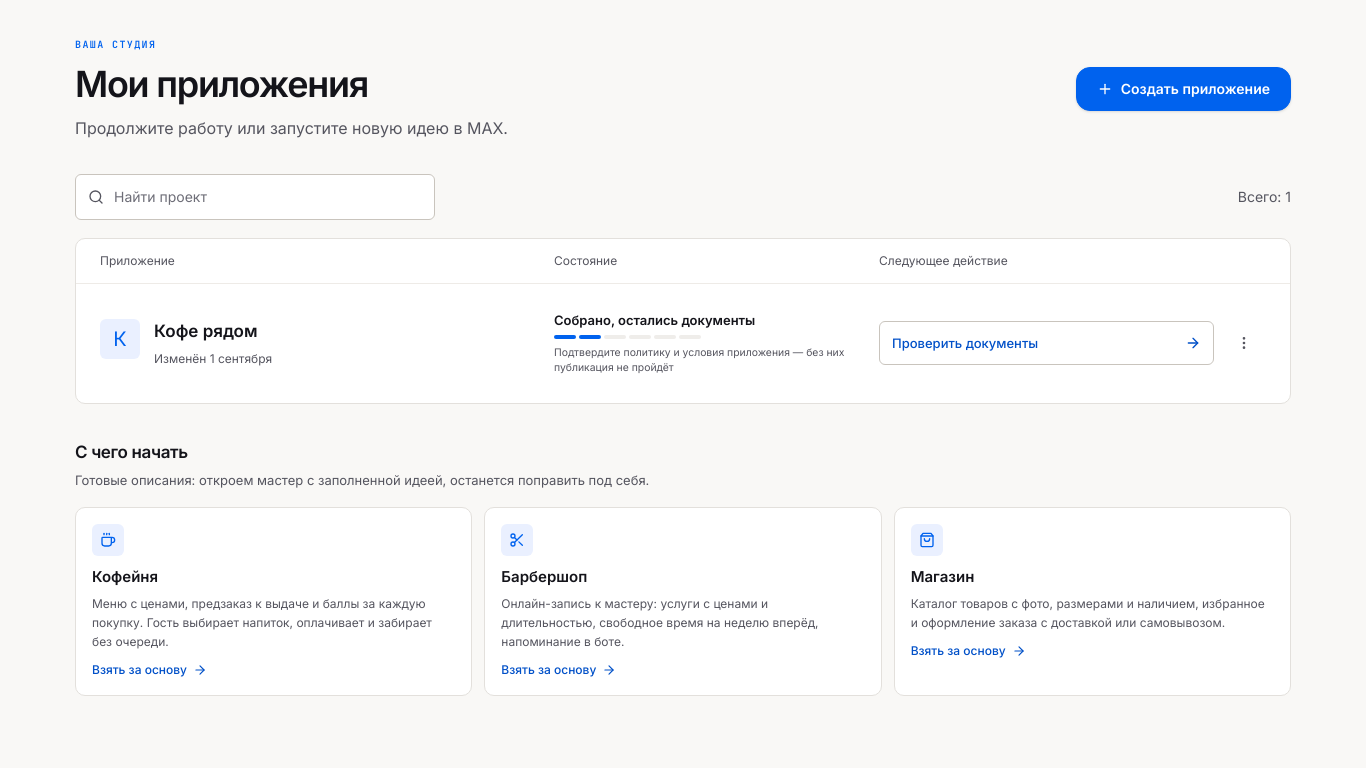
Scenario: предлагает готовые идеи вместо пустых двух третей экрана
(page scrolled)
Идея не создаёт проект молча — она заполняет мастер, который можно поправить.
Click the button with class "max-studio-idea" that starts with "Кофейня": x=274, y=602 [75,507,472,696]
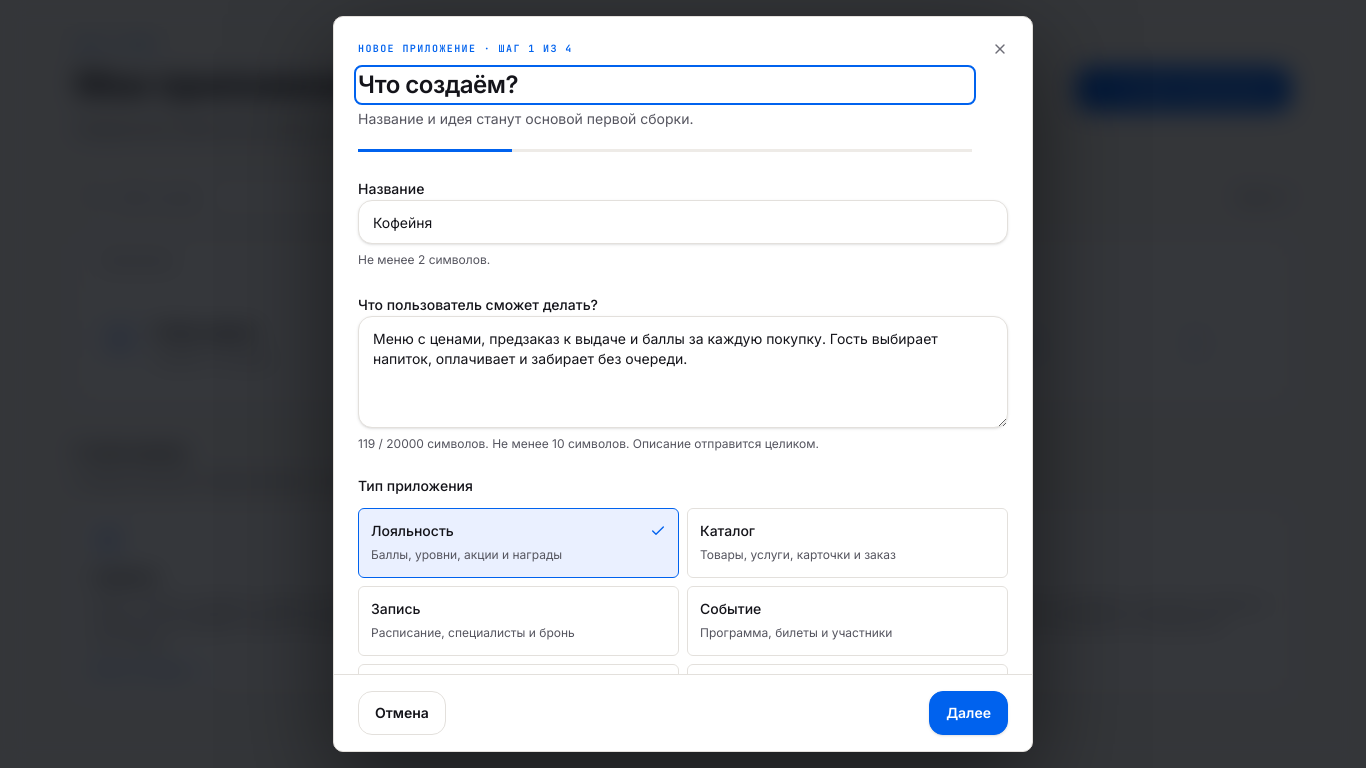
Expected: the dialog is shown, [333,16,1033,752]
Expected: the field with id "max-project-name" holds "Кофейня", [358,200,1008,244]
